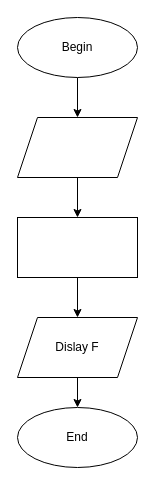
Image size: 155x485. Some labels were removed from this diagram. Each missing label, with the centre of its shape:
"F = ( 9 *C)/ 5 + 32" belongs at (x=77, y=247).
"Input C" belongs at (x=77, y=147).
